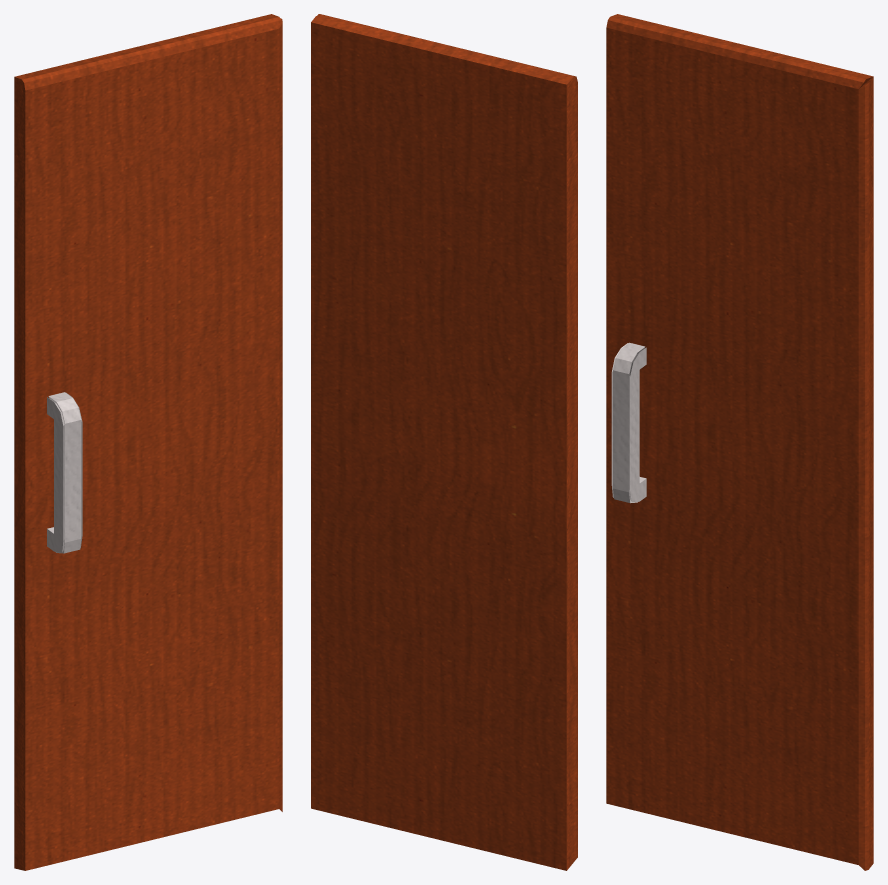
File: in Lemari pintu.fbx
The picture shows the model from 3 angles, left to right: view 1: azimuth 30°, elevation 25°; view 2: azimuth 150°, elevation 25°; view 3: azimuth 330°, elevation 25°; orthographic projection.
Parts seen in each view (by area): view 1: in Lemari pintu; view 2: in Lemari pintu; view 3: in Lemari pintu.
Part boxes in pixels (<box>): in Lemari pintu: <box>14,14,282,870</box>; in Lemari pintu: <box>311,14,577,870</box>; in Lemari pintu: <box>606,14,873,870</box>.
Size of the model in its own units: 2.74 by 8 by 0.5085.
